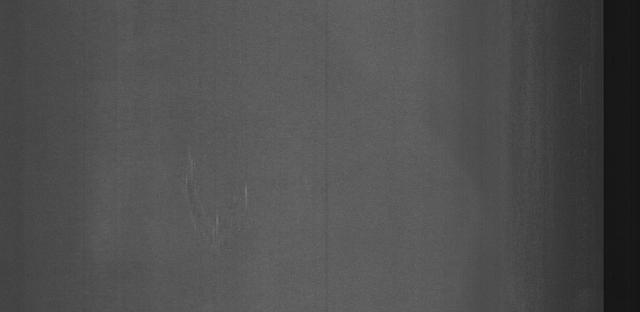silk_spot: (158, 153, 270, 255)
